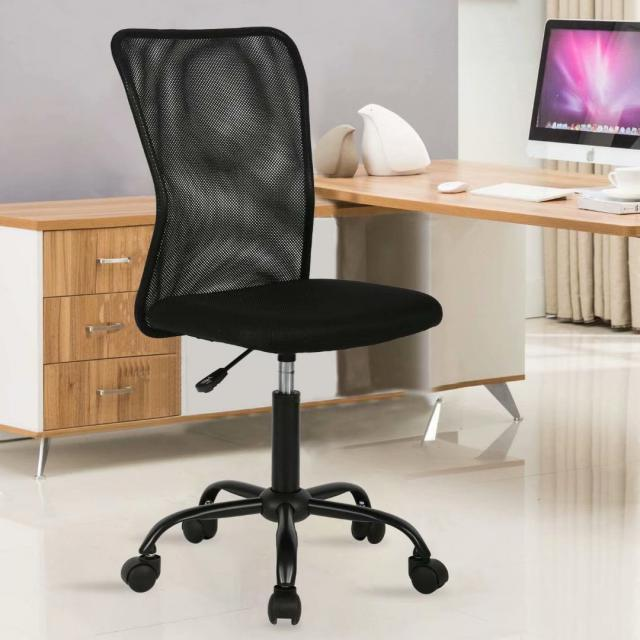chair: (96, 17, 457, 635)
